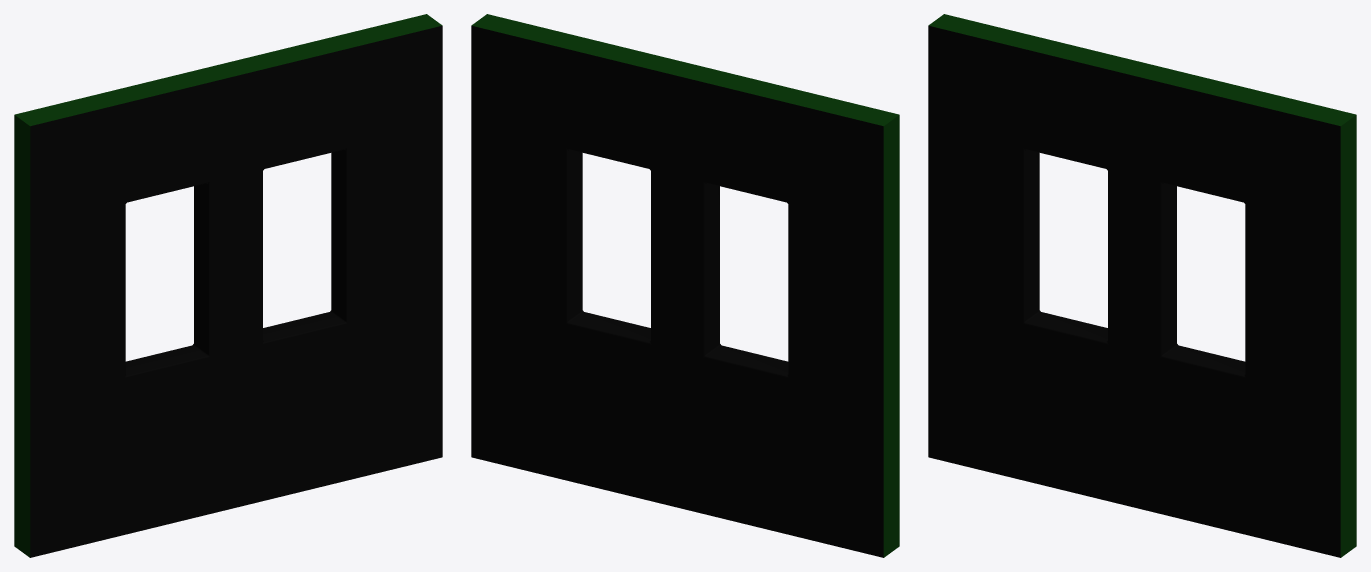
The model's file is DBK_Brick_WinDouble_Full.fbx.
3 views of the same model, side by side, from view 1: azimuth 30°, elevation 25°; view 2: azimuth 150°, elevation 25°; view 3: azimuth 330°, elevation 25° (orthographic).
Visible parts, largest first — view 1: DBK_Brick_WinDouble_Full; view 2: DBK_Brick_WinDouble_Full; view 3: DBK_Brick_WinDouble_Full.
Boxes of the visible parts, box(x1,y1,x2,y2) form: DBK_Brick_WinDouble_Full: box(14, 14, 442, 557); DBK_Brick_WinDouble_Full: box(471, 14, 899, 557); DBK_Brick_WinDouble_Full: box(928, 14, 1356, 557).
Bounding box in the file's own units: 300 × 300 × 20.
